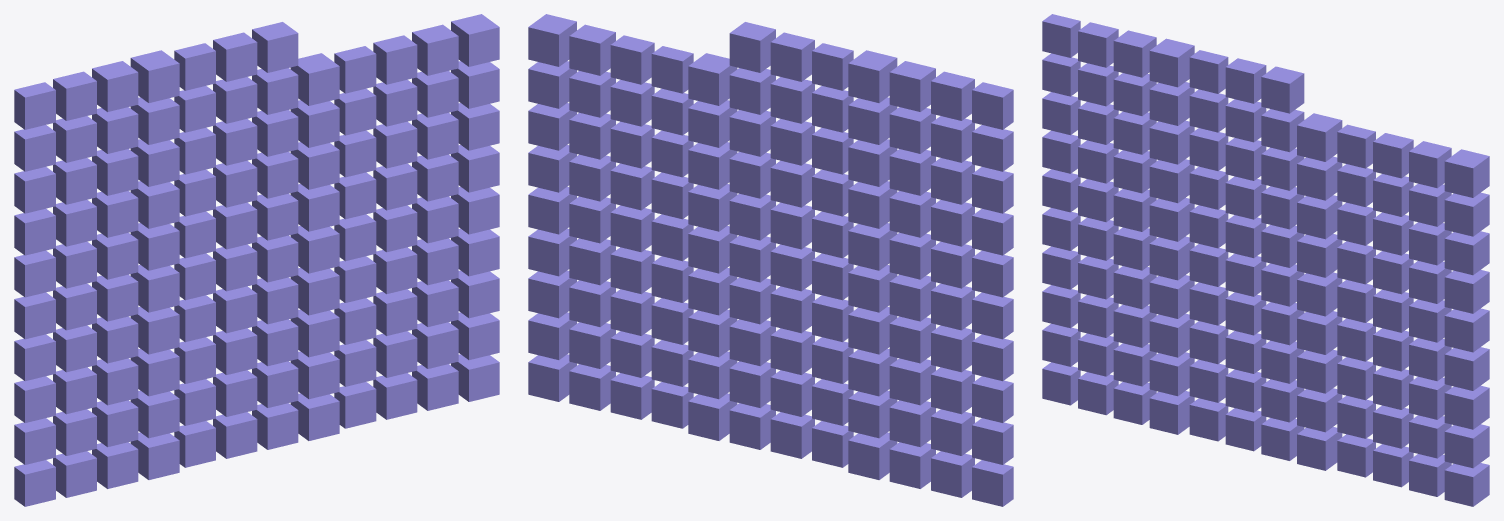
File: synthetic-ifc-mapping.glb
3 views of the same model, side by side, from view 1: azimuth 30°, elevation 25°; view 2: azimuth 150°, elevation 25°; view 3: azimuth 330°, elevation 25° (orthographic). The views are drawn at different scales.
Bounding box in the file's own units: 12.36 × 10.26 × 0.819.
